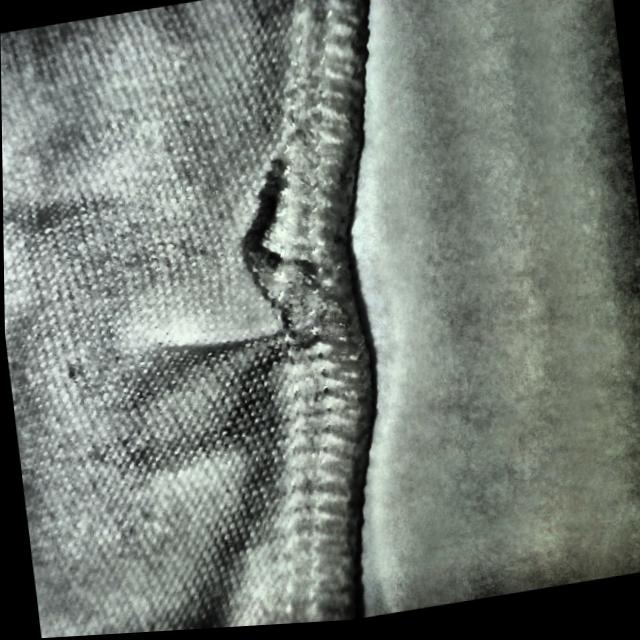seam: (145, 157, 371, 406)
